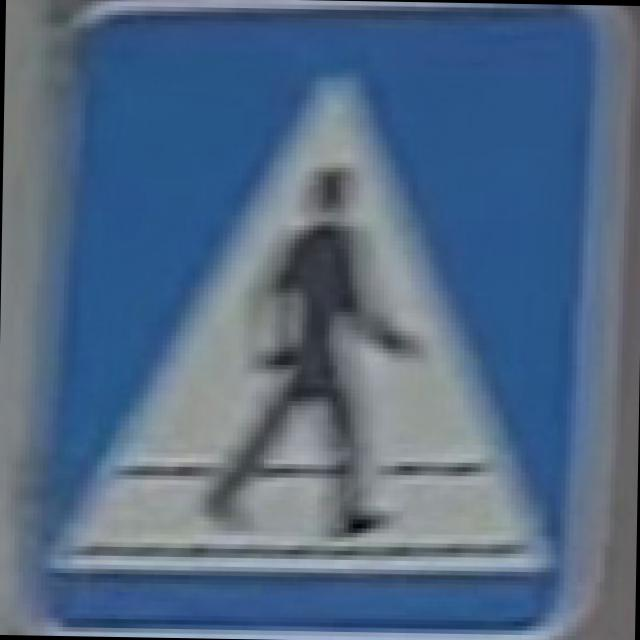zebracrossing_sign: (16, 0, 631, 640)
